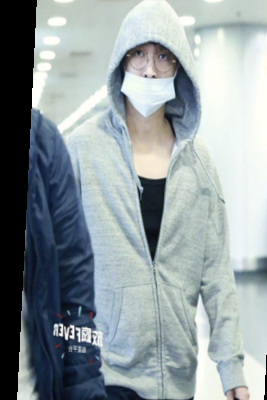mask_weared_incorrect: (103, 1, 203, 123)
